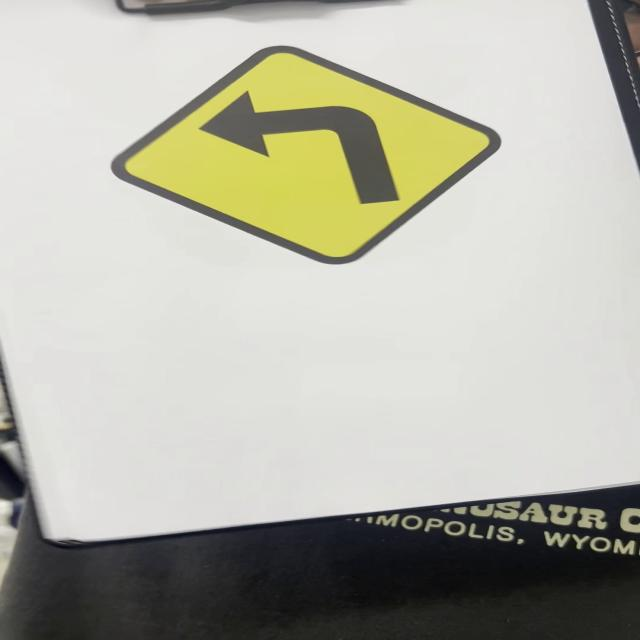left: (108, 43, 507, 265)
